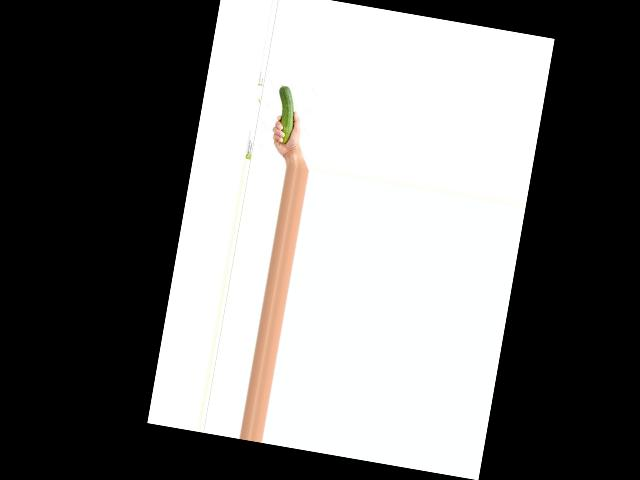cucumber: (270, 84, 298, 144)
